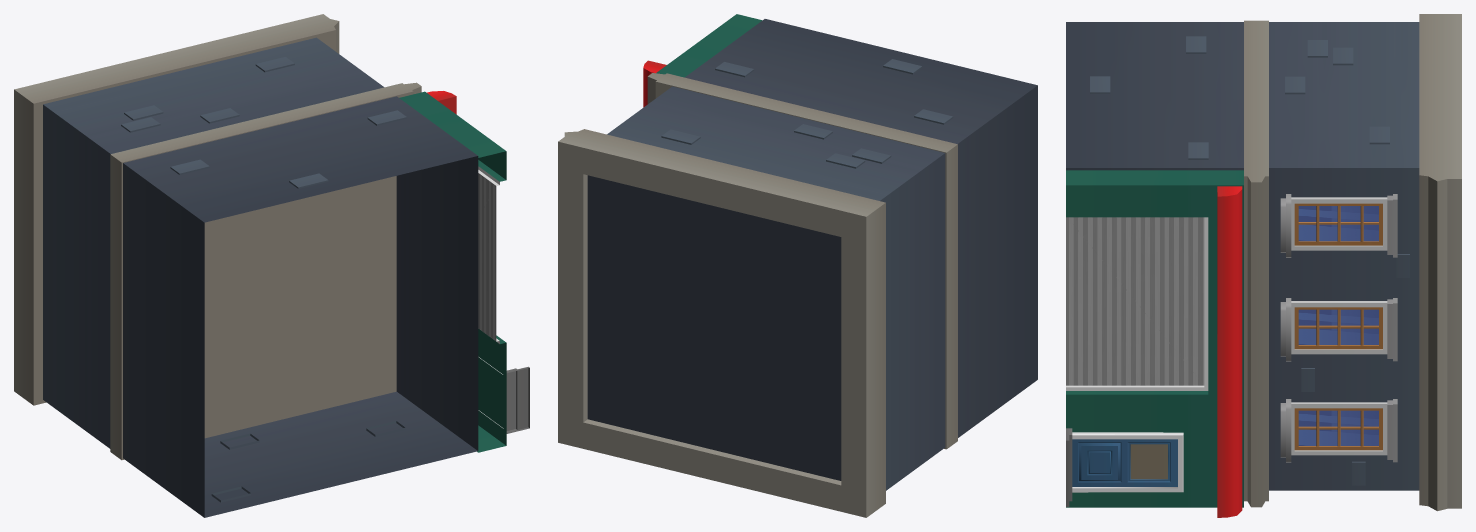
Rendered from Building_19_3_J.glb.
The picture shows the model from 3 angles, left to right: view 1: azimuth 30°, elevation 25°; view 2: azimuth 150°, elevation 25°; view 3: azimuth 270°, elevation 25°; orthographic projection. The views are drawn at different scales.
Visible parts, largest first — view 1: Building_19_3_J; view 2: Building_19_3_J; view 3: Building_19_3_J.
Boxes of the visible parts, x1,y1,x2,y2 form: Building_19_3_J: (14, 14, 529, 517); Building_19_3_J: (558, 14, 1037, 517); Building_19_3_J: (1066, 14, 1461, 517).
Bounding box in the file's own units: 7.74 × 6.67 × 7.26.
Materials: 3 (3 with a texture image).
